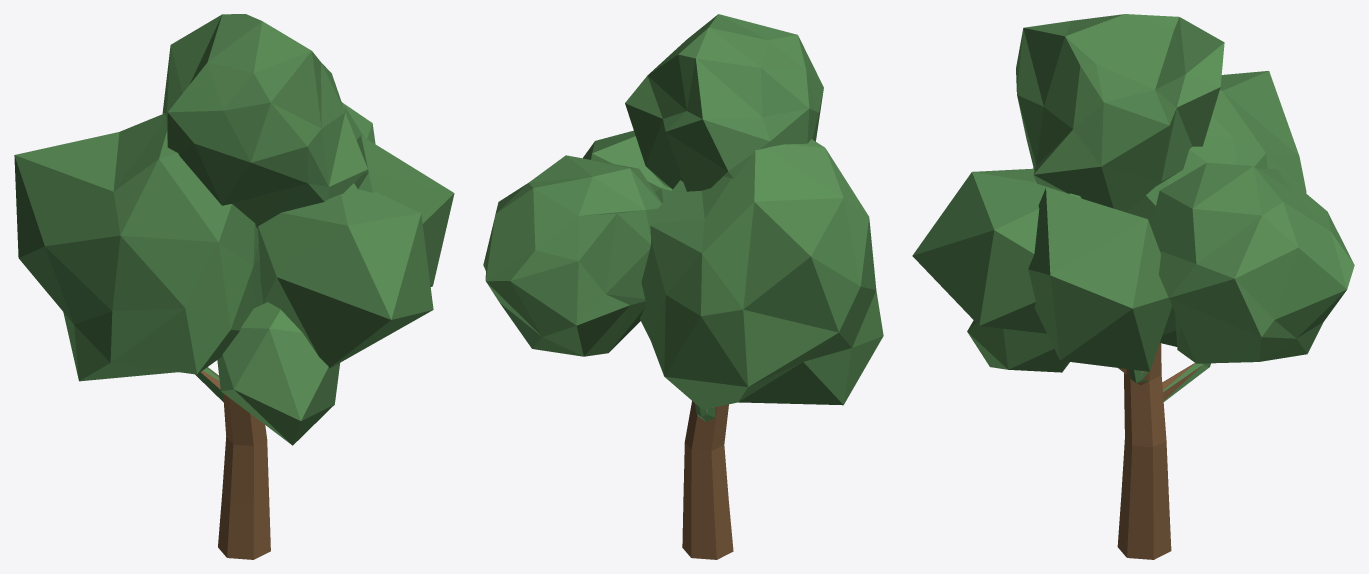
File: tree3d-071.glb
3 renders of one model, left to right at view 1: azimuth 30°, elevation 25°; view 2: azimuth 150°, elevation 25°; view 3: azimuth 270°, elevation 25°, orthographic. The views are drawn at different scales.
Parts seen in each view (by area): view 1: tree3d-071; view 2: tree3d-071; view 3: tree3d-071.
Part boxes in pixels (box(x1,y1,x2,y2)): tree3d-071: box(14, 14, 454, 559); tree3d-071: box(483, 14, 883, 559); tree3d-071: box(912, 14, 1354, 559).
Size of the model in its own units: 0.6996 by 1 by 0.7434.
